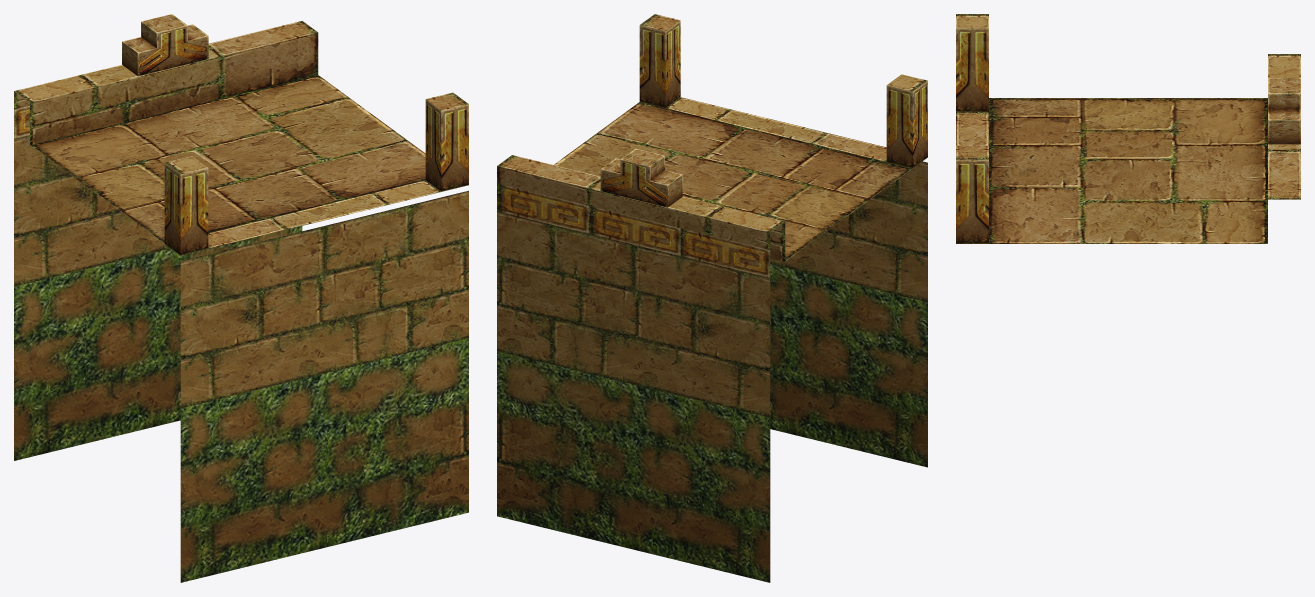
Rendered from TempleRoad05.FBX.
The picture shows the model from 3 angles, left to right: view 1: azimuth 30°, elevation 25°; view 2: azimuth 150°, elevation 25°; view 3: azimuth 270°, elevation 25°; orthographic projection. The views are drawn at different scales.
Parts seen in each view (by area): view 1: TempleRoad05; view 2: TempleRoad05; view 3: TempleRoad05.
Boxes of the visible parts, bbox=[...] form: TempleRoad05: bbox=[14, 14, 468, 582]; TempleRoad05: bbox=[497, 14, 927, 582]; TempleRoad05: bbox=[956, 14, 1300, 243].
Size of the model in its own units: 500 by 677 by 500.
